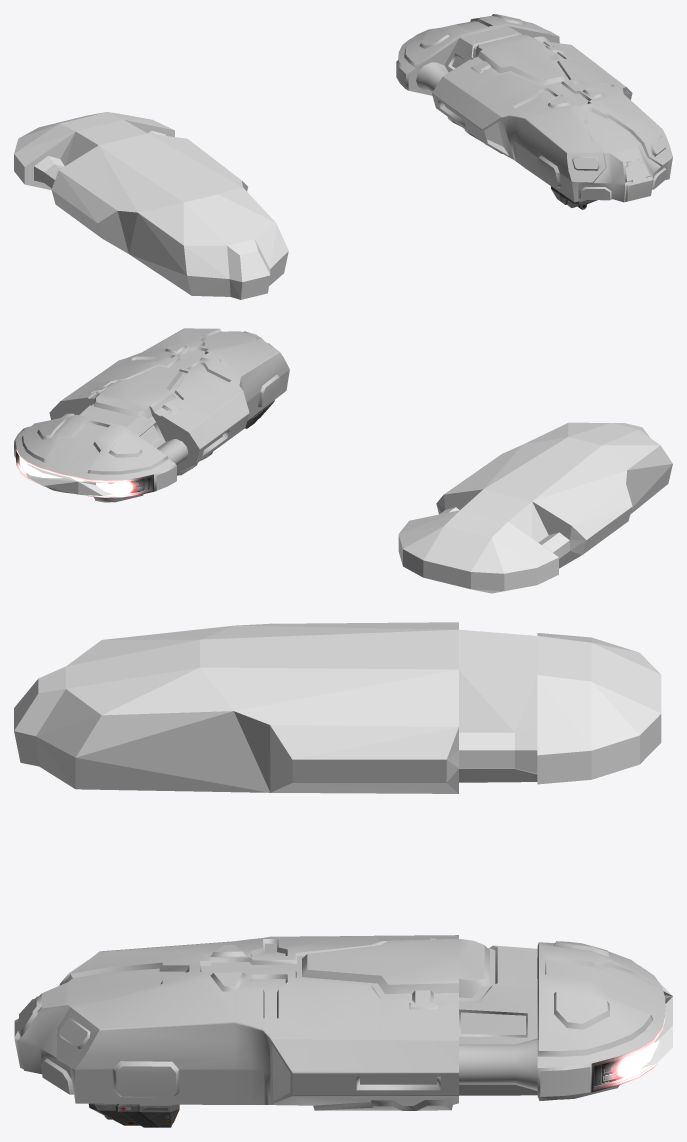
The model's file is bst_heavycorvette.dae.
The picture shows the model from 3 angles, top to bottom: view 1: azimuth 30°, elevation 25°; view 2: azimuth 150°, elevation 25°; view 3: azimuth 270°, elevation 25°; orthographic projection. The views are drawn at different scales.
Visible parts, largest first — view 1: MULT[HeavyCorvette]_LOD[0], COL[Root]; view 2: COL[Root], MULT[HeavyCorvette]_LOD[0], ETSH[EngineShape1]; view 3: MULT[HeavyCorvette]_LOD[0], COL[Root], MULT[CorvetteGun.1]_LOD[0], ETSH[EngineShape1].
Boxes of the visible parts, box(x1,y1,x2,y2) form: MULT[HeavyCorvette]_LOD[0]: box(396, 14, 672, 202); COL[Root]: box(14, 112, 288, 299); COL[Root]: box(398, 422, 672, 593); MULT[HeavyCorvette]_LOD[0]: box(14, 328, 289, 502); ETSH[EngineShape1]: box(26, 463, 112, 495); MULT[HeavyCorvette]_LOD[0]: box(14, 935, 665, 1110); COL[Root]: box(14, 622, 661, 793); MULT[CorvetteGun.1]_LOD[0]: box(88, 1103, 179, 1127); ETSH[EngineShape1]: box(643, 981, 672, 1067).
Bounding box in the file's own units: 57.32 × 8.56 × 36.53.
